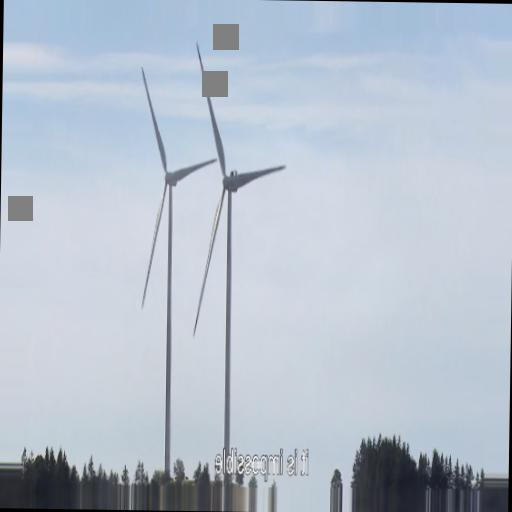wind turbine: (193, 39, 285, 484), (139, 68, 217, 482)
